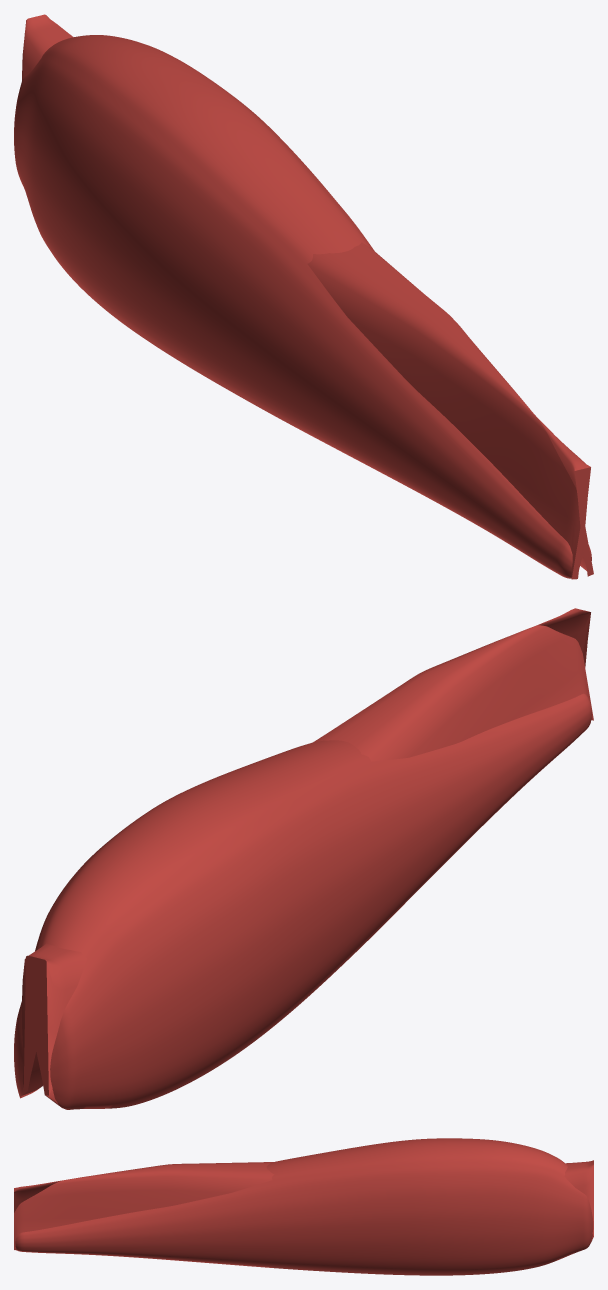
The model's file is chopper_5.glb.
3 views of the same model, one above another, from view 1: azimuth 30°, elevation 25°; view 2: azimuth 150°, elevation 25°; view 3: azimuth 270°, elevation 25° (orthographic). The views are drawn at different scales.
Parts seen in each view (by area): view 1: lod0; view 2: lod0; view 3: lod0.
Part boxes in pixels (x1,y1,x2,y2): lod0: [14, 14, 593, 579]; lod0: [14, 608, 593, 1109]; lod0: [14, 1138, 593, 1275].
Size of what is drawn, in the model's own units: 0.1751 by 0.2352 by 1.06.
